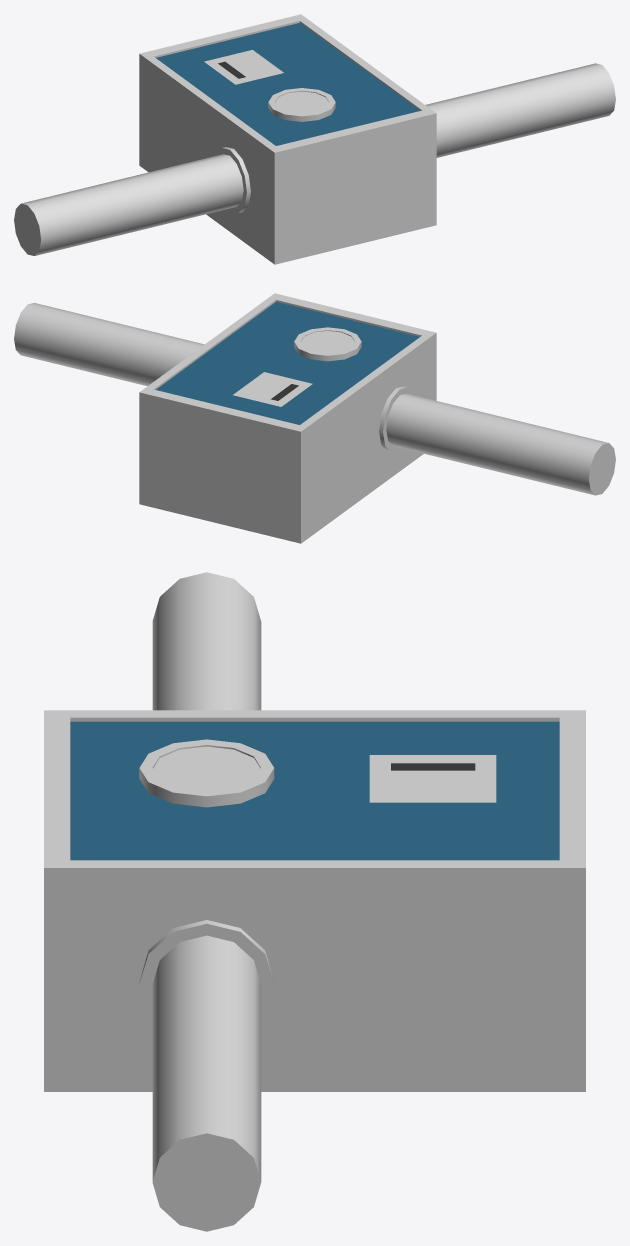
The picture shows the model from 3 angles, top to bottom: view 1: azimuth 30°, elevation 25°; view 2: azimuth 150°, elevation 25°; view 3: azimuth 270°, elevation 25°; orthographic projection. The views are drawn at different scales.
Visible parts, largest first — view 1: Cube; view 2: Cube; view 3: Cube.
Boxes of the visible parts, x1,y1,x2,y2 form: Cube: (14,14,615,264); Cube: (14,293,615,543); Cube: (44,572,585,1231).
Size of the model in its own units: 71.06 by 13.73 by 29.
